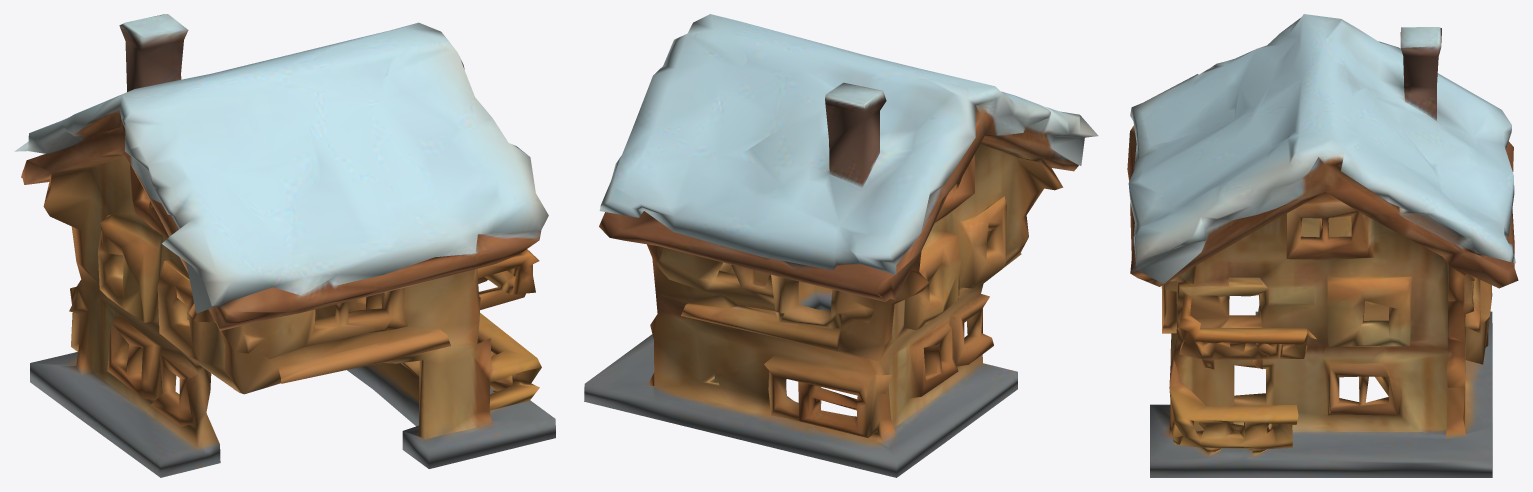
File: mountain-chalet.glb
The picture shows the model from 3 angles, left to right: view 1: azimuth 30°, elevation 25°; view 2: azimuth 150°, elevation 25°; view 3: azimuth 270°, elevation 25°; orthographic projection. The views are drawn at different scales.
Parts seen in each view (by area): view 1: tripo_node_eaf54647-e81b-4152-ac17-1638d7cb6d3c; view 2: tripo_node_eaf54647-e81b-4152-ac17-1638d7cb6d3c; view 3: tripo_node_eaf54647-e81b-4152-ac17-1638d7cb6d3c.
Boxes of the visible parts, x1,y1,x2,y2 form: tripo_node_eaf54647-e81b-4152-ac17-1638d7cb6d3c: [14, 14, 555, 477]; tripo_node_eaf54647-e81b-4152-ac17-1638d7cb6d3c: [584, 14, 1098, 477]; tripo_node_eaf54647-e81b-4152-ac17-1638d7cb6d3c: [1127, 14, 1518, 477].
Size of the model in its own units: 0.9938 by 0.9431 by 1.
Materials: 1 (1 with a texture image).
